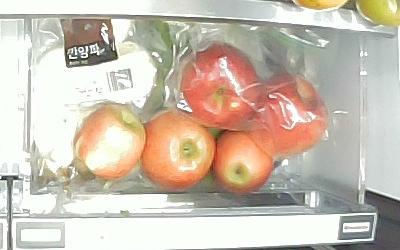apple: (141, 114, 216, 190), (73, 103, 146, 180), (213, 128, 274, 193)
apple_vinyl: (182, 43, 259, 127), (259, 73, 330, 160)
